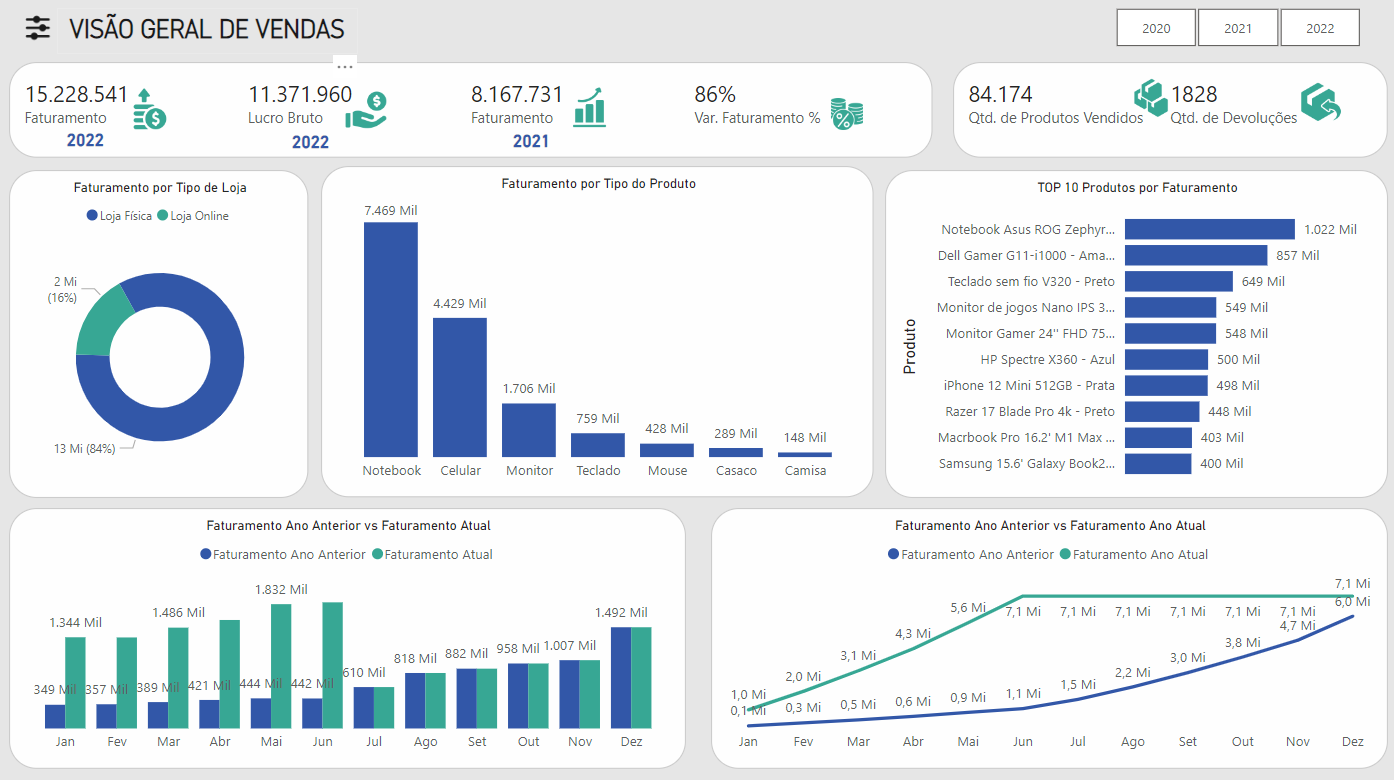

The dashboard page shown, as its layout file describes it:
{"tool":"powerbi","page":{"name":"Visão Geral","canvas":[1280,720],"ordinal":0},"visuals":[{"type":"multiRowCard","title":"Faturamento","fields":{"Values":["Medidas.Receita","Medidas.Lucro Bruto","Medidas.Faturamento Ano Anterior","Medidas.Variação Anual Delta %"]},"box":[16.3,64.2,839.3,87.2],"z":0},{"type":"slicer","fields":{"Values":["t_Calendario.Ano"]},"box":[996.6,8.8,271.3,48.3],"z":1000},{"type":"lineChart","title":"Faturamento Ano Anterior vs Faturamento Ano Atual ","fields":{"Category":["t_Calendario.Mês Abreviado"],"Y":["Medidas.Receita Acumulada Período Anterior","Medidas.Receita Acumulada Período Atual"]},"box":[653.7,470,614.9,237.3],"z":2000},{"type":"barChart","title":"TOP 10 Produtos por Faturamento","fields":{"Category":["d_Produtos.Produto"],"Y":["Medidas.Receita"]},"box":[811.8,162.8,456.6,298.1],"z":3000},{"type":"columnChart","fields":{"Y":["Medidas.Receita"],"Category":["d_Produtos.Tipo do Produto"]},"box":[299.6,159.3,502.4,301.4],"z":4000},{"type":"donutChart","title":"Faturamento por Tipo de Loja","fields":{"Y":["Medidas.Receita"],"Category":["d_Lojas.Tipo"]},"box":[16.3,162.9,272.5,297.8],"z":5000},{"type":"clusteredColumnChart","title":"Faturamento Ano Anterior vs Faturamento Atual","fields":{"Y":["Medidas.Receita Ano Anterior","Medidas.Receita"],"Category":["t_Calendario.Mês Abreviado"]},"box":[16,470,614.9,237.3],"z":6000},{"type":"card","fields":{"Values":["Medidas.Ano Atual"]},"box":[51.8,120.5,67.6,30.7],"z":7000},{"type":"card","fields":{"Values":["Medidas.Ano Anterior"]},"box":[457,121.7,68,30.7],"z":8000},{"type":"multiRowCard","title":"Faturamento","fields":{"Values":["Medidas.Quantidade de Vendas","Medidas.Quantidade de Devoluções"]},"box":[873.8,64.2,394.7,87.2],"z":9000},{"type":"image","box":[119.8,83.4,49.8,46.9],"z":10000},{"type":"image","box":[316.2,84.3,49.8,46.9],"z":11000},{"type":"image","box":[518.3,82.4,49.8,46],"z":12000},{"type":"image","box":[1028,73.8,50.8,46.9],"z":13000},{"type":"image","box":[1183.2,77.6,50.8,46.9],"z":14000},{"type":"image","box":[753.1,86.2,48.9,51.7],"z":15000},{"type":"card","fields":{"Values":["Medidas.Ano Atual"]},"box":[255.8,122.6,68,30.7],"z":16000},{"type":"textbox","box":[60.2,15.9,272.7,41.2],"z":17000},{"type":"image","box":[24.3,15.9,35.9,35.9],"z":18000},{"type":"actionButton","box":[15.7,12.8,53,40.3],"z":19000}]}

Visuals, with their boxes in screenshot pixels (x1, y1, x2, y2), scaled from the page's 1280x720 canvas onto the 1394x780 screenshot:
"Faturamento" multiRowCard: <bbox>18, 70, 932, 164</bbox>
slicer - t_Calendario.Ano: <bbox>1085, 10, 1381, 62</bbox>
"Faturamento Ano Anterior vs Faturamento Ano Atual " lineChart: <bbox>712, 509, 1382, 766</bbox>
"TOP 10 Produtos por Faturamento" barChart: <bbox>884, 176, 1381, 499</bbox>
columnChart - Medidas.Receita x d_Produtos.Tipo do Produto: <bbox>326, 173, 873, 499</bbox>
"Faturamento por Tipo de Loja" donutChart: <bbox>18, 176, 315, 499</bbox>
"Faturamento Ano Anterior vs Faturamento Atual" clusteredColumnChart: <bbox>17, 509, 687, 766</bbox>
card - Medidas.Ano Atual: <bbox>56, 131, 130, 164</bbox>
card - Medidas.Ano Anterior: <bbox>498, 132, 572, 165</bbox>
"Faturamento" multiRowCard: <bbox>952, 70, 1381, 164</bbox>
image: <bbox>130, 90, 185, 141</bbox>
image: <bbox>344, 91, 399, 142</bbox>
image: <bbox>564, 89, 619, 139</bbox>
image: <bbox>1120, 80, 1175, 131</bbox>
image: <bbox>1289, 84, 1344, 135</bbox>
image: <bbox>820, 93, 873, 149</bbox>
card - Medidas.Ano Atual: <bbox>279, 133, 353, 166</bbox>
textbox: <bbox>66, 17, 363, 62</bbox>
image: <bbox>26, 17, 66, 56</bbox>
actionButton: <bbox>17, 14, 75, 58</bbox>
